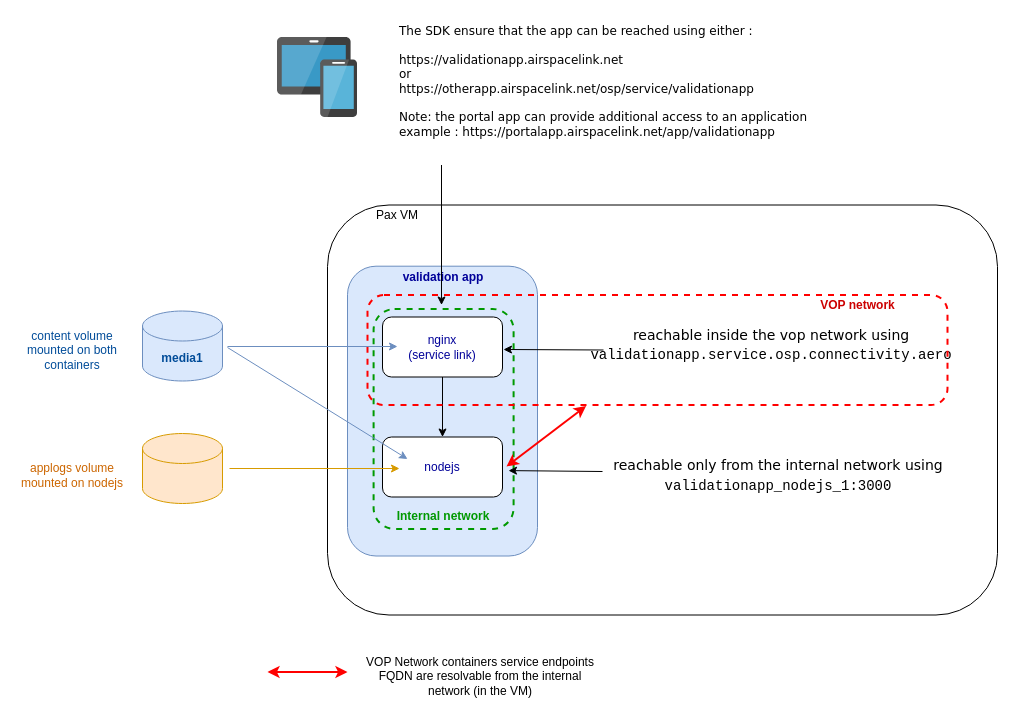
Image size: 1015x728. Some labels were removed from this diagram. The shapes that lost their labels are listed below. From the top down, each one's centre as x and y in pixels, then its label:
the point at 317,77: End users devices
the point at 182,468: backchannel
